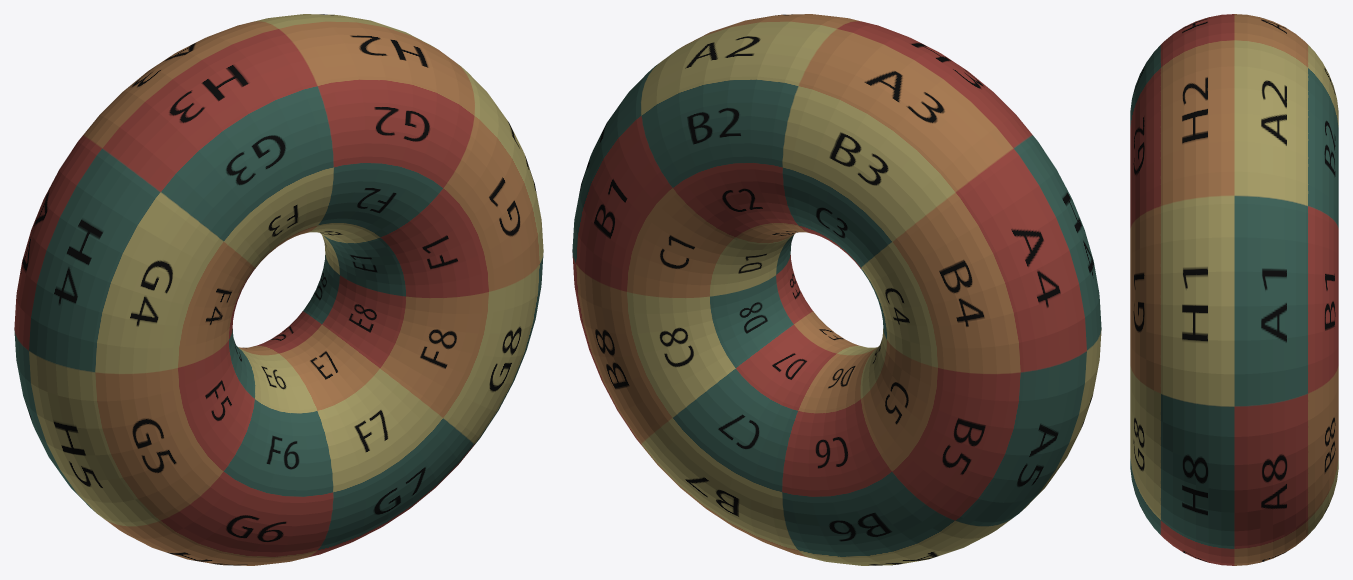
File: texture_torus_R9_r29.glb
3 views of the same model, side by side, from view 1: azimuth 30°, elevation 25°; view 2: azimuth 150°, elevation 25°; view 3: azimuth 270°, elevation 25° (orthographic). The views are drawn at different scales.
Visible parts, largest first — view 1: world; view 2: world; view 3: world.
Boxes of the visible parts, x1,y1,x2,y2 form: world: [14, 14, 543, 565]; world: [572, 14, 1101, 565]; world: [1130, 14, 1338, 565].
Size of the model in its own units: 25.73 by 25.68 by 9.71.
1 material, 1 textured.
